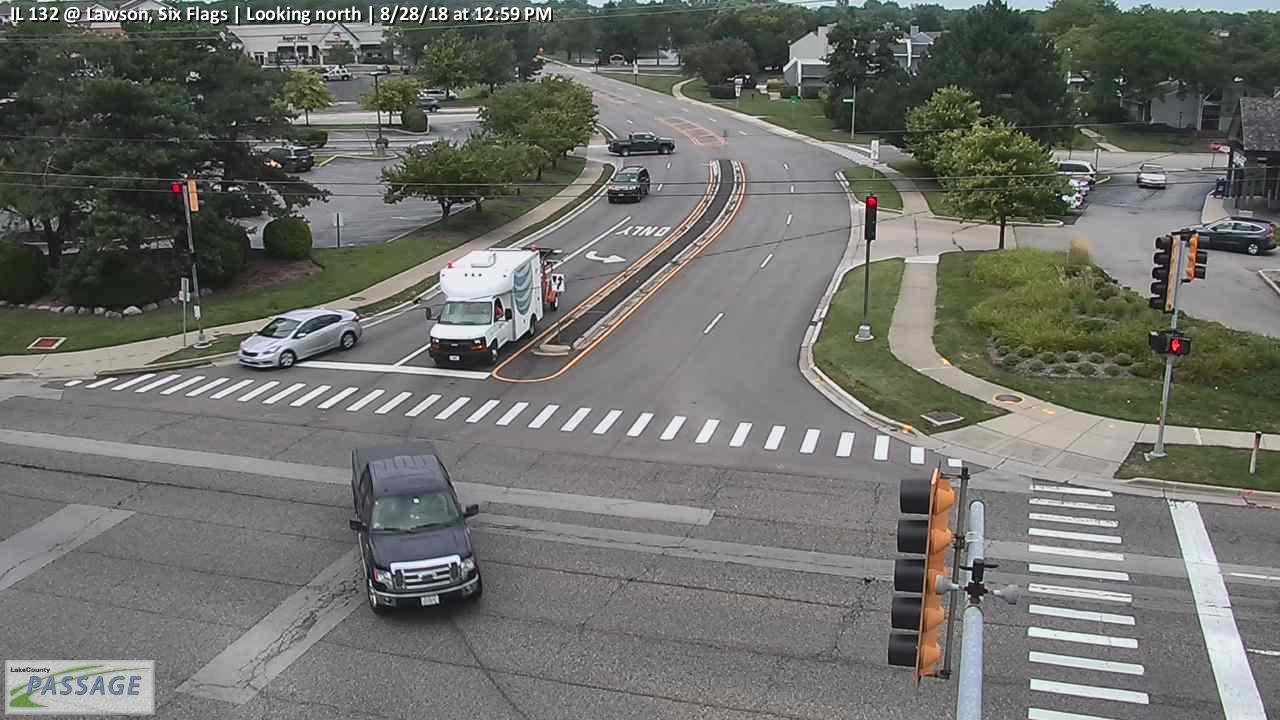SUV: (350, 442, 482, 610), (258, 144, 314, 174), (608, 167, 650, 203), (1039, 161, 1097, 186), (421, 88, 457, 101), (413, 97, 442, 113)
Sedan: (238, 307, 361, 369), (1135, 163, 1167, 190)
Truck: (426, 246, 566, 365), (609, 131, 675, 156), (322, 66, 352, 81)
